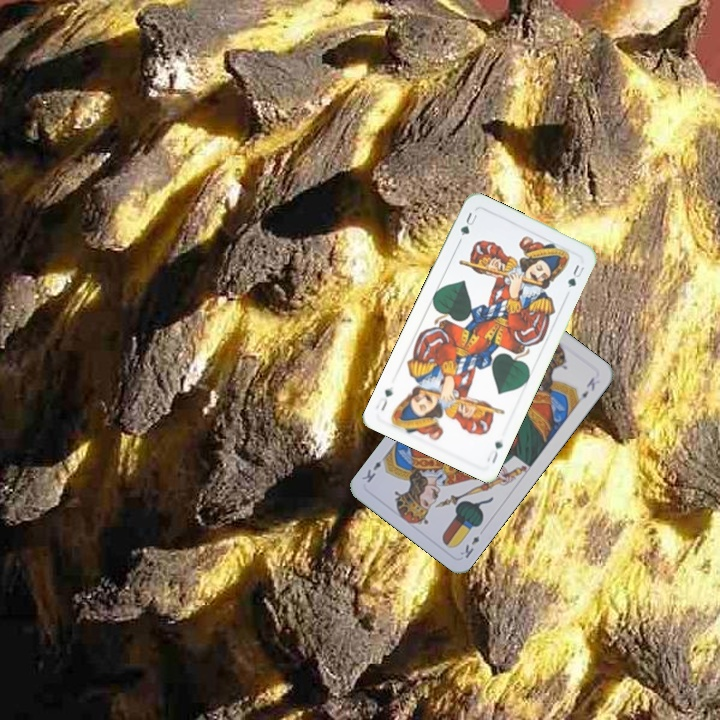EK: (456, 531, 482, 561)
GU: (456, 208, 481, 238), (483, 437, 505, 467)
